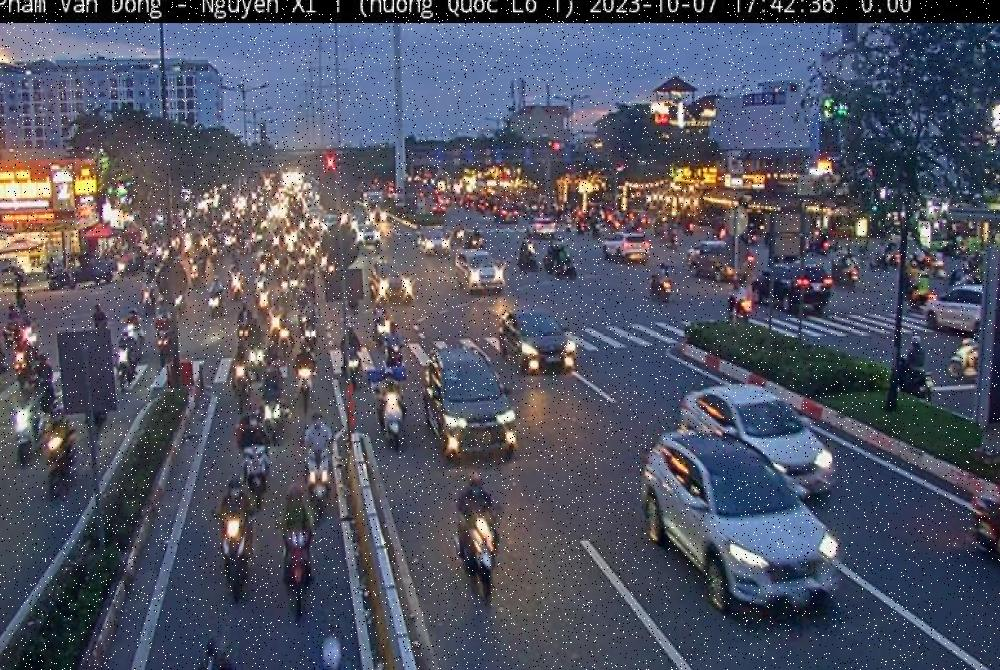car: (643, 433, 841, 611), (681, 384, 836, 499), (426, 348, 518, 460), (500, 307, 577, 377), (751, 261, 834, 312), (926, 284, 982, 338), (603, 231, 652, 264)
motorbike: (242, 444, 272, 509)
